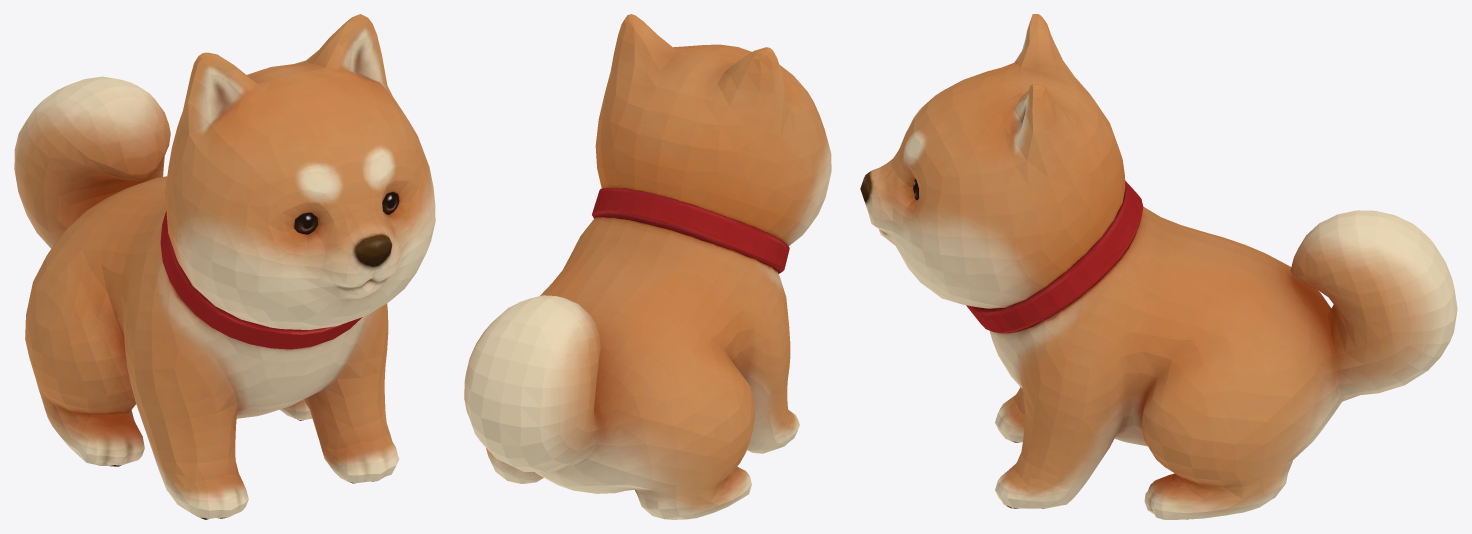
File: robot-model.glb
3 renders of one model, left to right at view 1: azimuth 30°, elevation 25°; view 2: azimuth 150°, elevation 25°; view 3: azimuth 270°, elevation 25°, orthographic. The views are drawn at different scales.
Visible parts, largest first — view 1: Group18985_default_0; view 2: Group18985_default_0; view 3: Group18985_default_0.
Part boxes in pixels (x1,y1,x2,y2): Group18985_default_0: [14, 14, 435, 519]; Group18985_default_0: [464, 14, 831, 519]; Group18985_default_0: [860, 14, 1457, 519].
Size of the model in its own units: 0.9209 by 1.38 by 1.77.
1 material, 1 textured.
